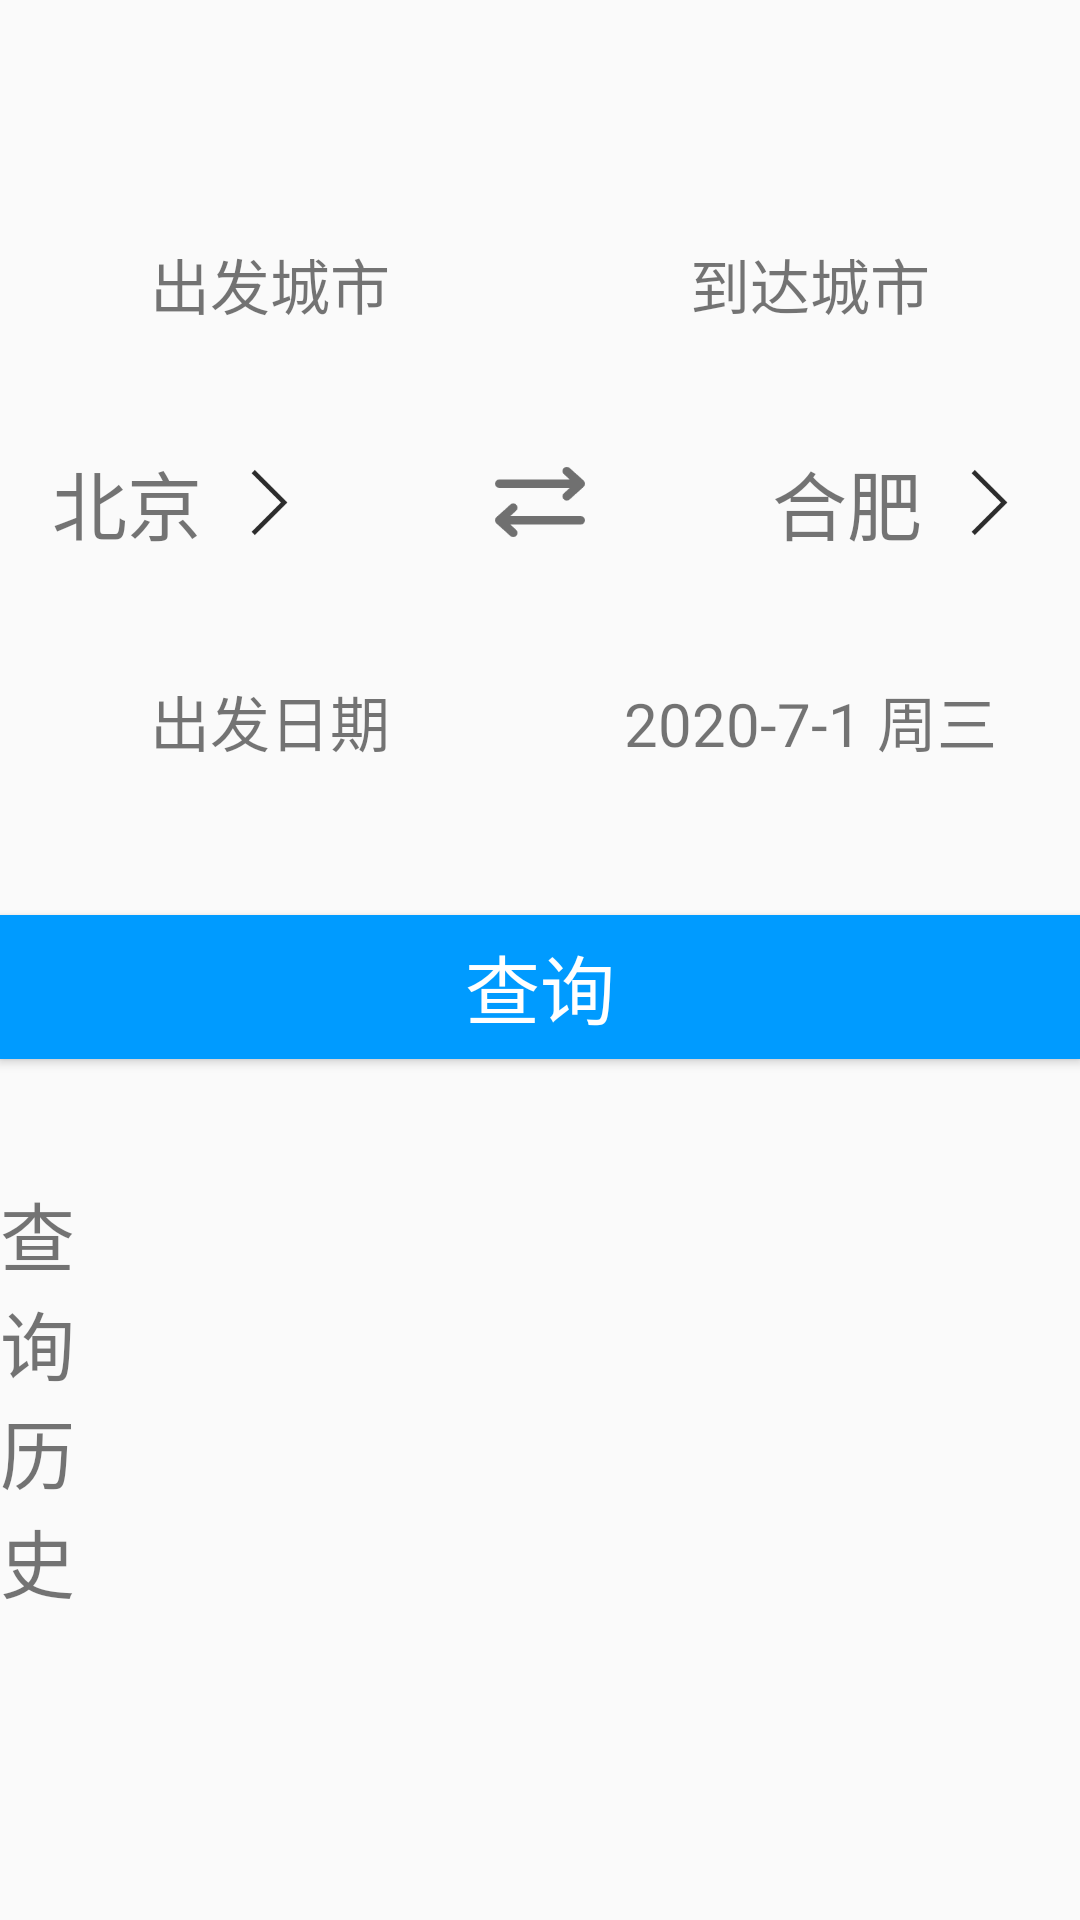

Screen size 1080px x 1920px. Icon name, then its center in pixels as (x=x, y=y):
arrow: (x=269, y=502), (x=989, y=502)
arrows horizontal lightgray: (x=540, y=502)
